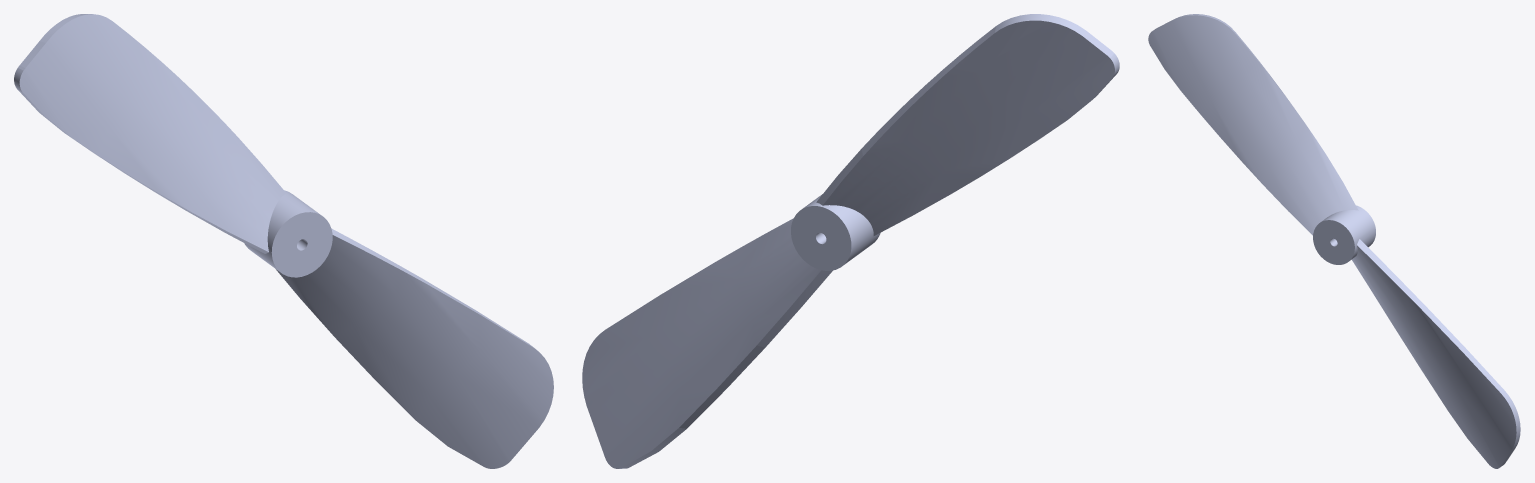
Rendered from propeller1.obj.
The picture shows the model from 3 angles, left to right: view 1: azimuth 30°, elevation 25°; view 2: azimuth 150°, elevation 25°; view 3: azimuth 330°, elevation 25°; orthographic projection. The views are drawn at different scales.
Size of the model in its own units: 0.0351 by 0.0349 by 0.00352.
